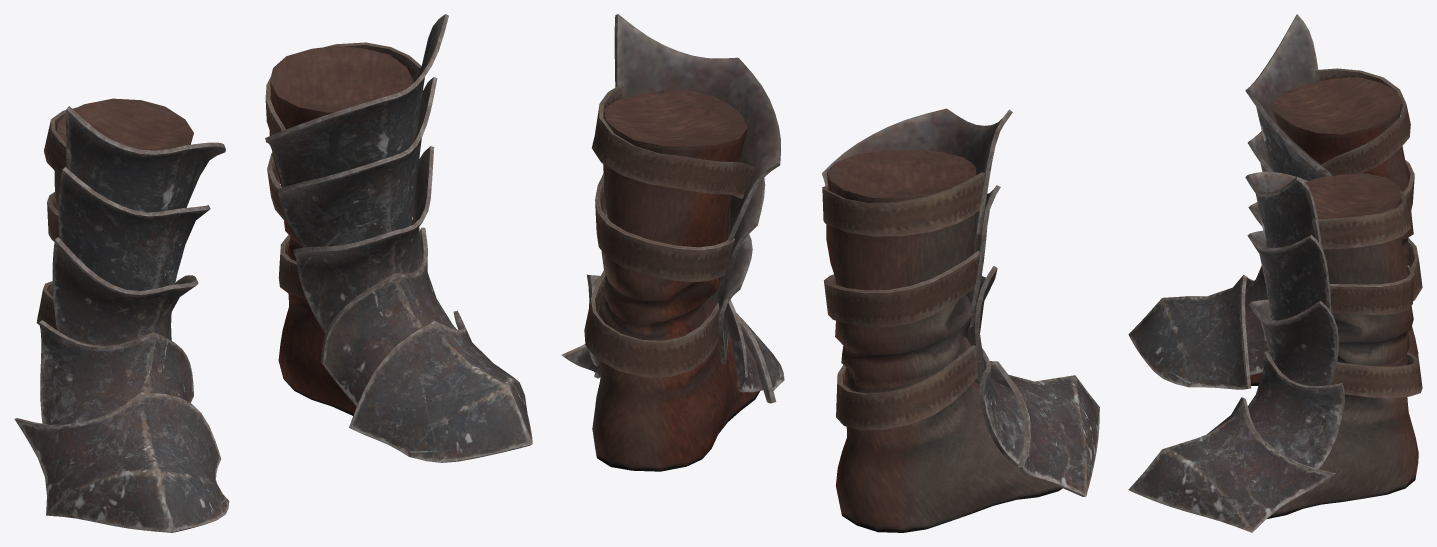
Rendered from sk_dg_uruk_boots_elite_e.fbx.
The picture shows the model from 3 angles, left to right: view 1: azimuth 30°, elevation 25°; view 2: azimuth 150°, elevation 25°; view 3: azimuth 270°, elevation 25°; orthographic projection. The views are drawn at different scales.
Visible parts, largest first — view 1: sk_dg_uruk_boots_elite_e.0, sk_dg_uruk_boots_elite_e.1; view 2: sk_dg_uruk_boots_elite_e.0, sk_dg_uruk_boots_elite_e.1; view 3: sk_dg_uruk_boots_elite_e.0, sk_dg_uruk_boots_elite_e.1.
Part boxes in pixels (x1,y1,x2,y2): sk_dg_uruk_boots_elite_e.0: (14, 14, 532, 532); sk_dg_uruk_boots_elite_e.1: (36, 42, 421, 329); sk_dg_uruk_boots_elite_e.0: (561, 14, 1099, 532); sk_dg_uruk_boots_elite_e.1: (584, 84, 984, 430); sk_dg_uruk_boots_elite_e.0: (1128, 14, 1418, 532); sk_dg_uruk_boots_elite_e.1: (1315, 68, 1422, 398).
Bounding box in the file's own units: 0.6097 × 0.3708 × 0.4681.
2 materials, 2 textured.
